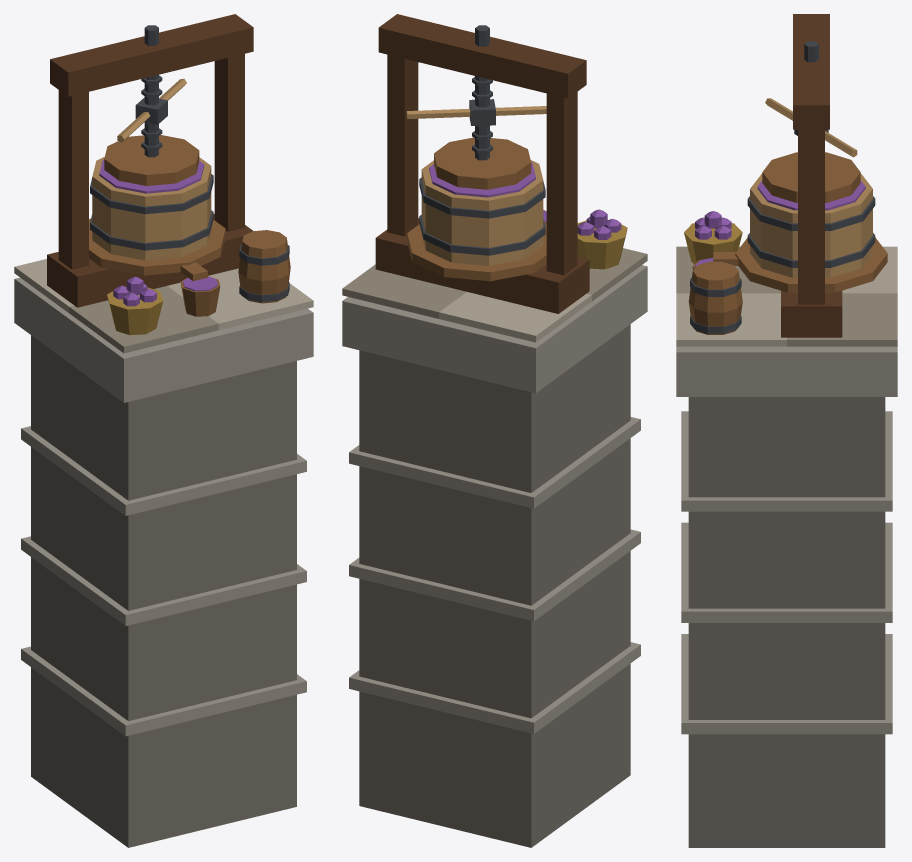
Rendered from decor_wine_press.glb.
3 views of the same model, side by side, from view 1: azimuth 30°, elevation 25°; view 2: azimuth 150°, elevation 25°; view 3: azimuth 270°, elevation 25° (orthographic). The views are drawn at different scales.
Parts seen in each view (by area): view 1: decor_wine_press; view 2: decor_wine_press; view 3: decor_wine_press.
Boxes of the visible parts, left/top/right/bottom form: decor_wine_press: left=14, top=14, right=313, bottom=847; decor_wine_press: left=342, top=14, right=647, bottom=847; decor_wine_press: left=676, top=14, right=897, bottom=847.
Bounding box in the file's own units: 1.8 × 6.85 × 1.8.
